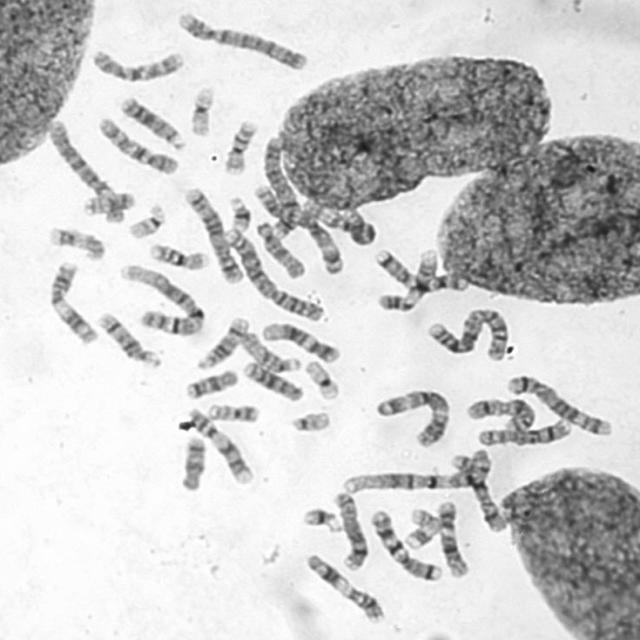A1: (339, 447, 496, 496), (123, 265, 207, 337)
A2: (221, 224, 327, 324), (423, 303, 512, 362)
A3: (252, 181, 346, 276), (373, 384, 449, 448)
B4: (173, 9, 309, 67), (262, 134, 302, 240)
B5: (500, 378, 614, 437), (181, 182, 245, 284)
C10: (94, 114, 180, 176), (86, 50, 186, 96)
C11: (304, 548, 386, 624), (51, 257, 100, 345)
C12: (258, 320, 340, 364), (434, 498, 466, 579)
C6: (45, 118, 128, 224), (301, 195, 379, 250)
C7: (375, 508, 444, 582), (371, 246, 469, 295)
C8: (473, 417, 574, 451), (330, 488, 371, 571)
C9: (180, 404, 253, 486), (374, 251, 439, 312)
D13: (120, 95, 187, 150), (239, 358, 304, 401)
D14: (94, 313, 162, 369), (194, 314, 250, 371)
D15: (254, 218, 308, 280), (238, 330, 302, 374)
E16: (220, 115, 260, 174), (146, 239, 210, 271)
E17: (46, 224, 106, 262), (400, 503, 442, 550)
E18: (180, 366, 240, 400), (177, 433, 208, 493)
F19: (302, 356, 342, 402), (186, 89, 218, 138)
F20: (80, 189, 138, 216), (205, 399, 261, 424)
G21: (299, 505, 344, 534), (225, 192, 252, 234)
G22: (126, 202, 166, 240), (288, 408, 334, 434)
X: (448, 457, 508, 534), (466, 394, 538, 433)
